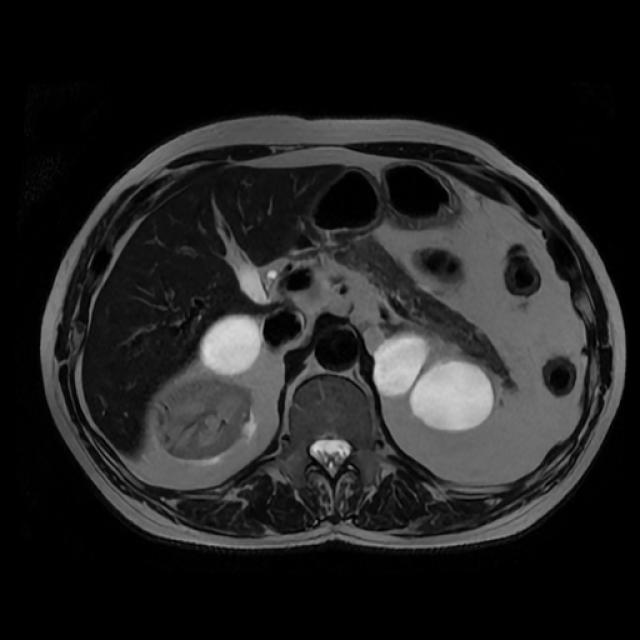sag: (158, 379, 258, 458), (199, 313, 263, 372)
sol: (372, 333, 492, 430)
